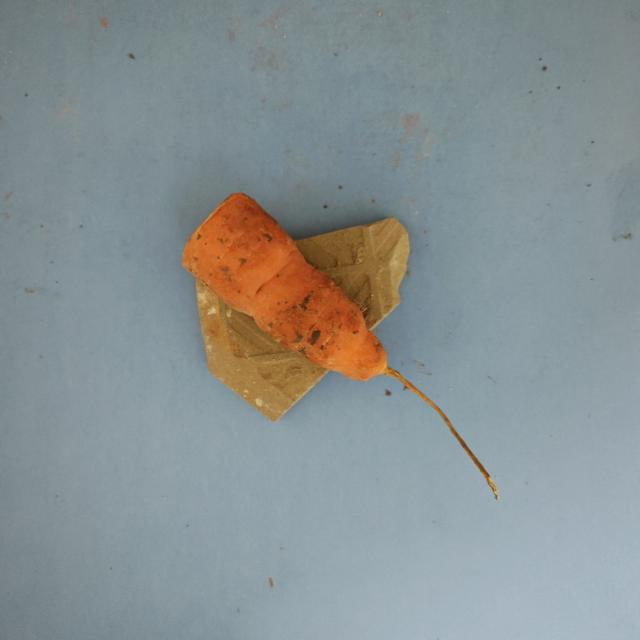-Kitchen waste - carrot-: (181, 191, 389, 379)
-Other waste - ceramic-: (197, 219, 413, 423)
